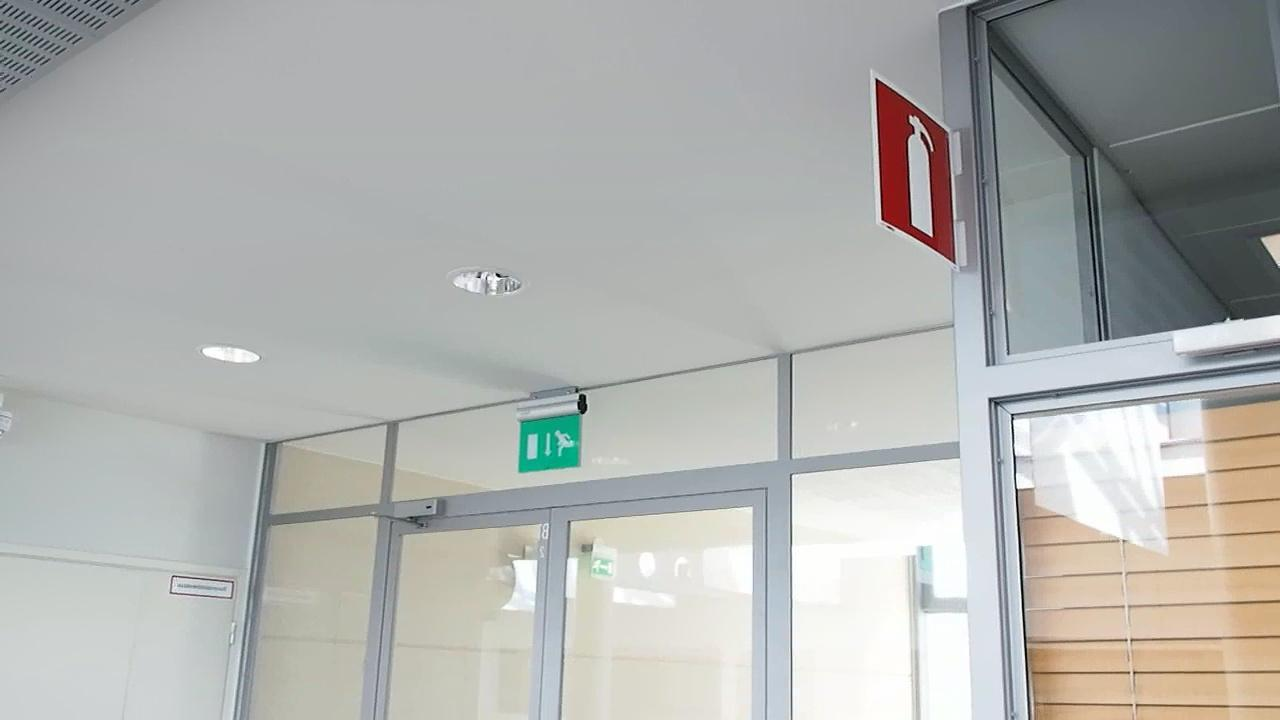exit: (514, 423, 583, 479)
fireextinguisher: (876, 83, 961, 252)
